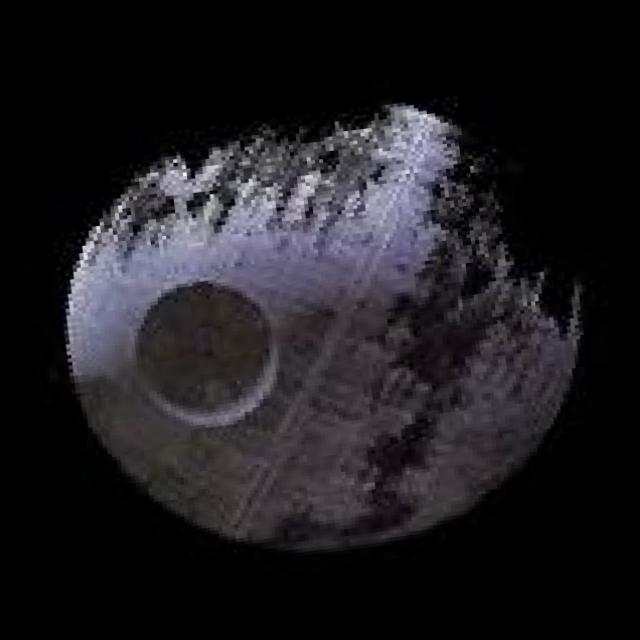Death Star: (27, 71, 618, 582)
